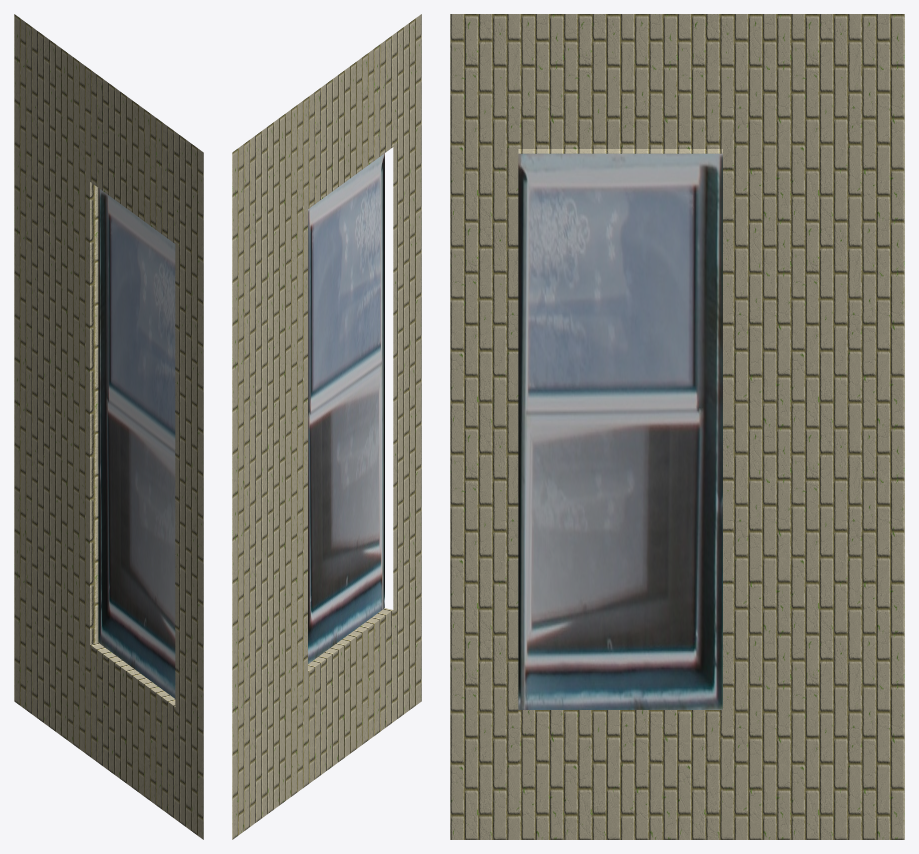
Rendered from window_2m.obj.
The picture shows the model from 3 angles, left to right: view 1: azimuth 30°, elevation 25°; view 2: azimuth 150°, elevation 25°; view 3: azimuth 270°, elevation 25°; orthographic projection. The views are drawn at different scales.
Parts seen in each view (by area): view 1: Plane001, Plane002; view 2: Plane001, Plane002; view 3: Plane001, Plane002.
Boxes of the visible parts, x1=… form: Plane001: x1=14, y1=14, x2=203, y2=839; Plane002: x1=98, y1=188, x2=175, y2=698; Plane001: x1=232, y1=14, x2=421, y2=839; Plane002: x1=308, y1=153, x2=384, y2=663; Plane001: x1=450, y1=14, x2=904, y2=839; Plane002: x1=518, y1=153, x2=722, y2=709.
Size of the model in its own units: 5 by 401 by 200.
2 materials, 2 textured.
